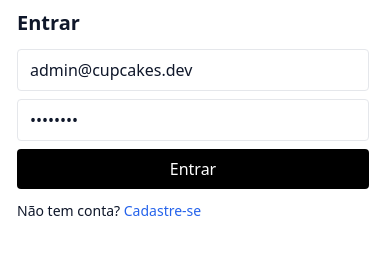
Test: Login › deve exibir mensagem de erro genérica quando não há mensagem específica
Click the button "Entrar" at (193, 169), box [17,149,369,189]
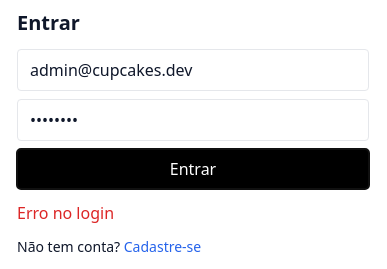
Check: the text "Erro no login" is shown, box [17,202,114,224]
